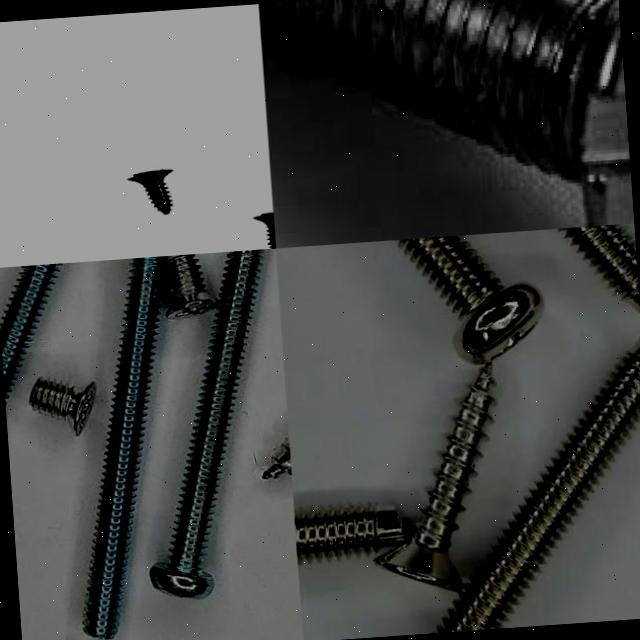Screw: (258, 0, 634, 226), (436, 341, 640, 633), (149, 249, 262, 598), (82, 255, 170, 640), (374, 362, 492, 591), (396, 235, 541, 363), (0, 263, 57, 398), (563, 224, 640, 307), (294, 511, 402, 553), (28, 378, 95, 436), (165, 254, 217, 318), (128, 169, 174, 213), (255, 212, 275, 248)
